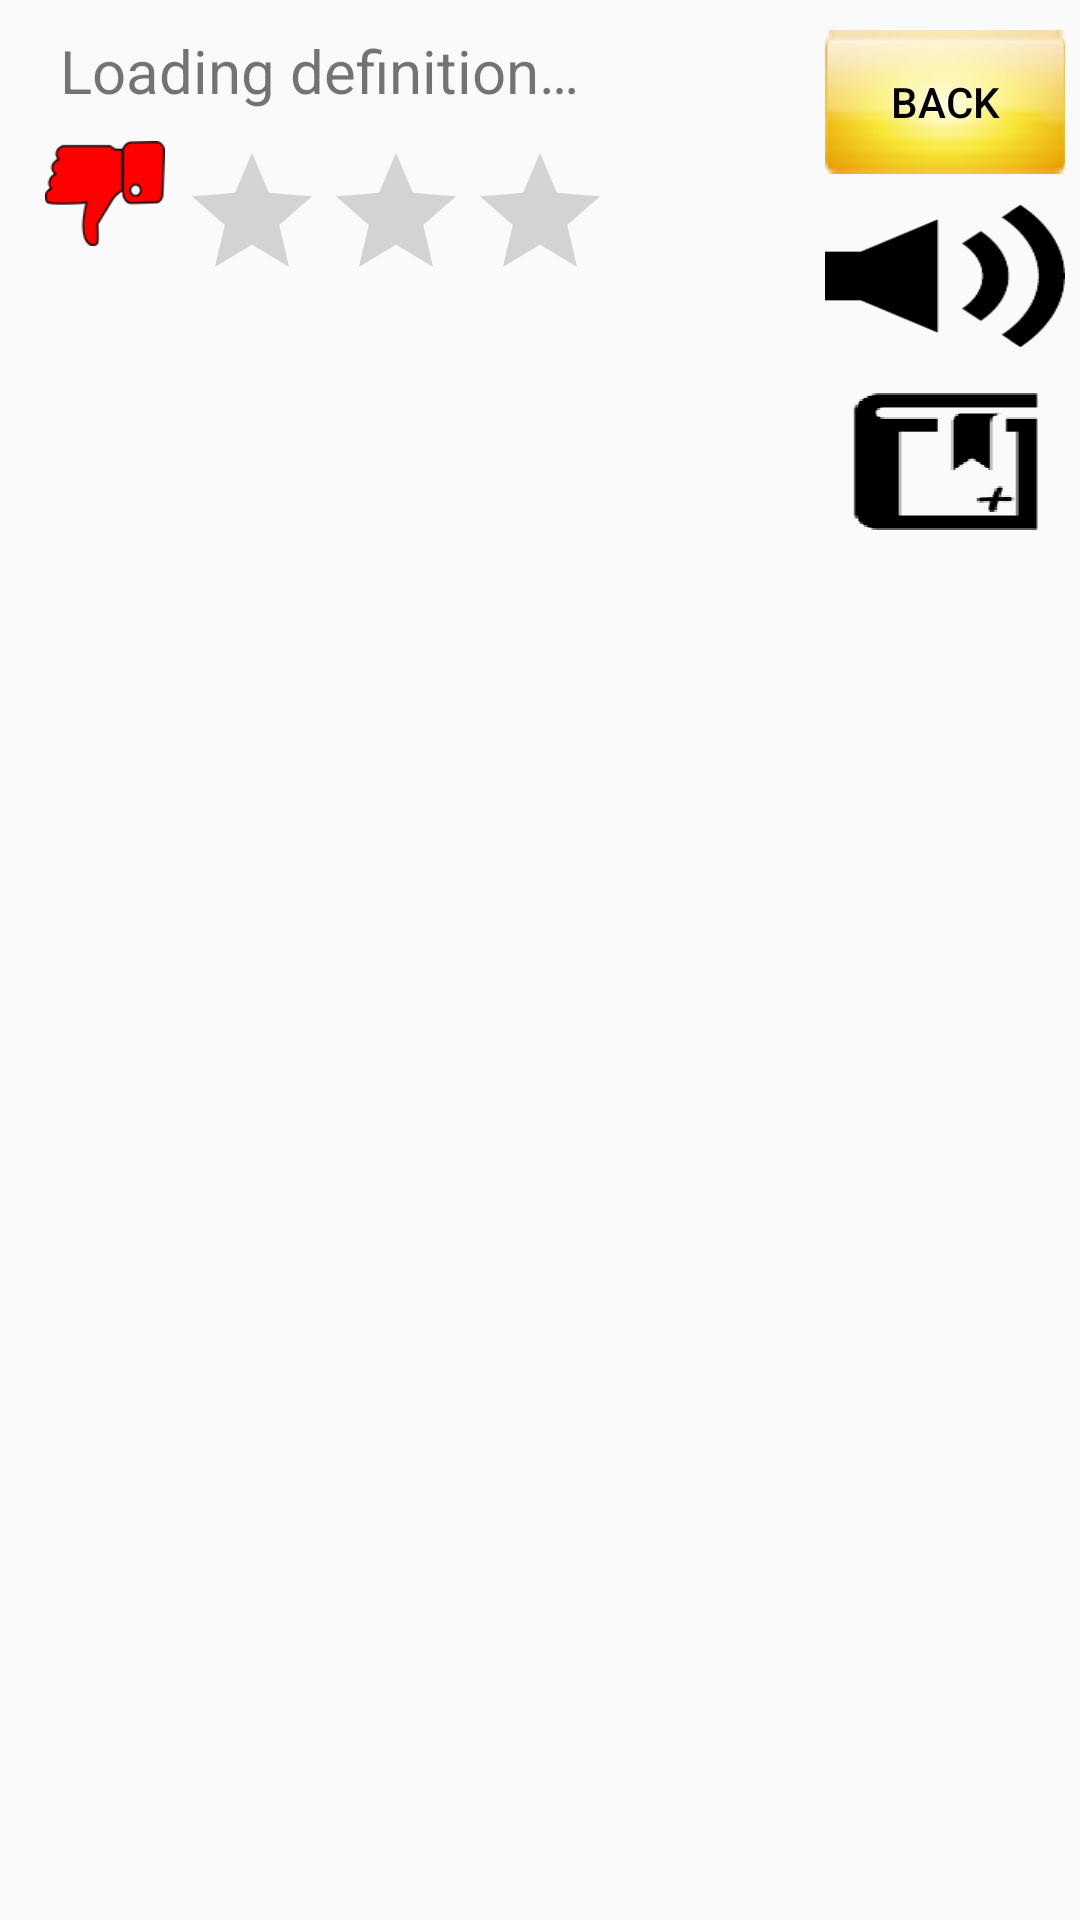

Icons on this 1080*1920 Android screen, each with its box as {"left": x1, "top": y1, "right": x2, "bottom": y2}:
dictionary: {"left": 853, "top": 393, "right": 1038, "bottom": 530}
report: {"left": 45, "top": 141, "right": 165, "bottom": 246}
sound: {"left": 825, "top": 205, "right": 1065, "bottom": 347}
